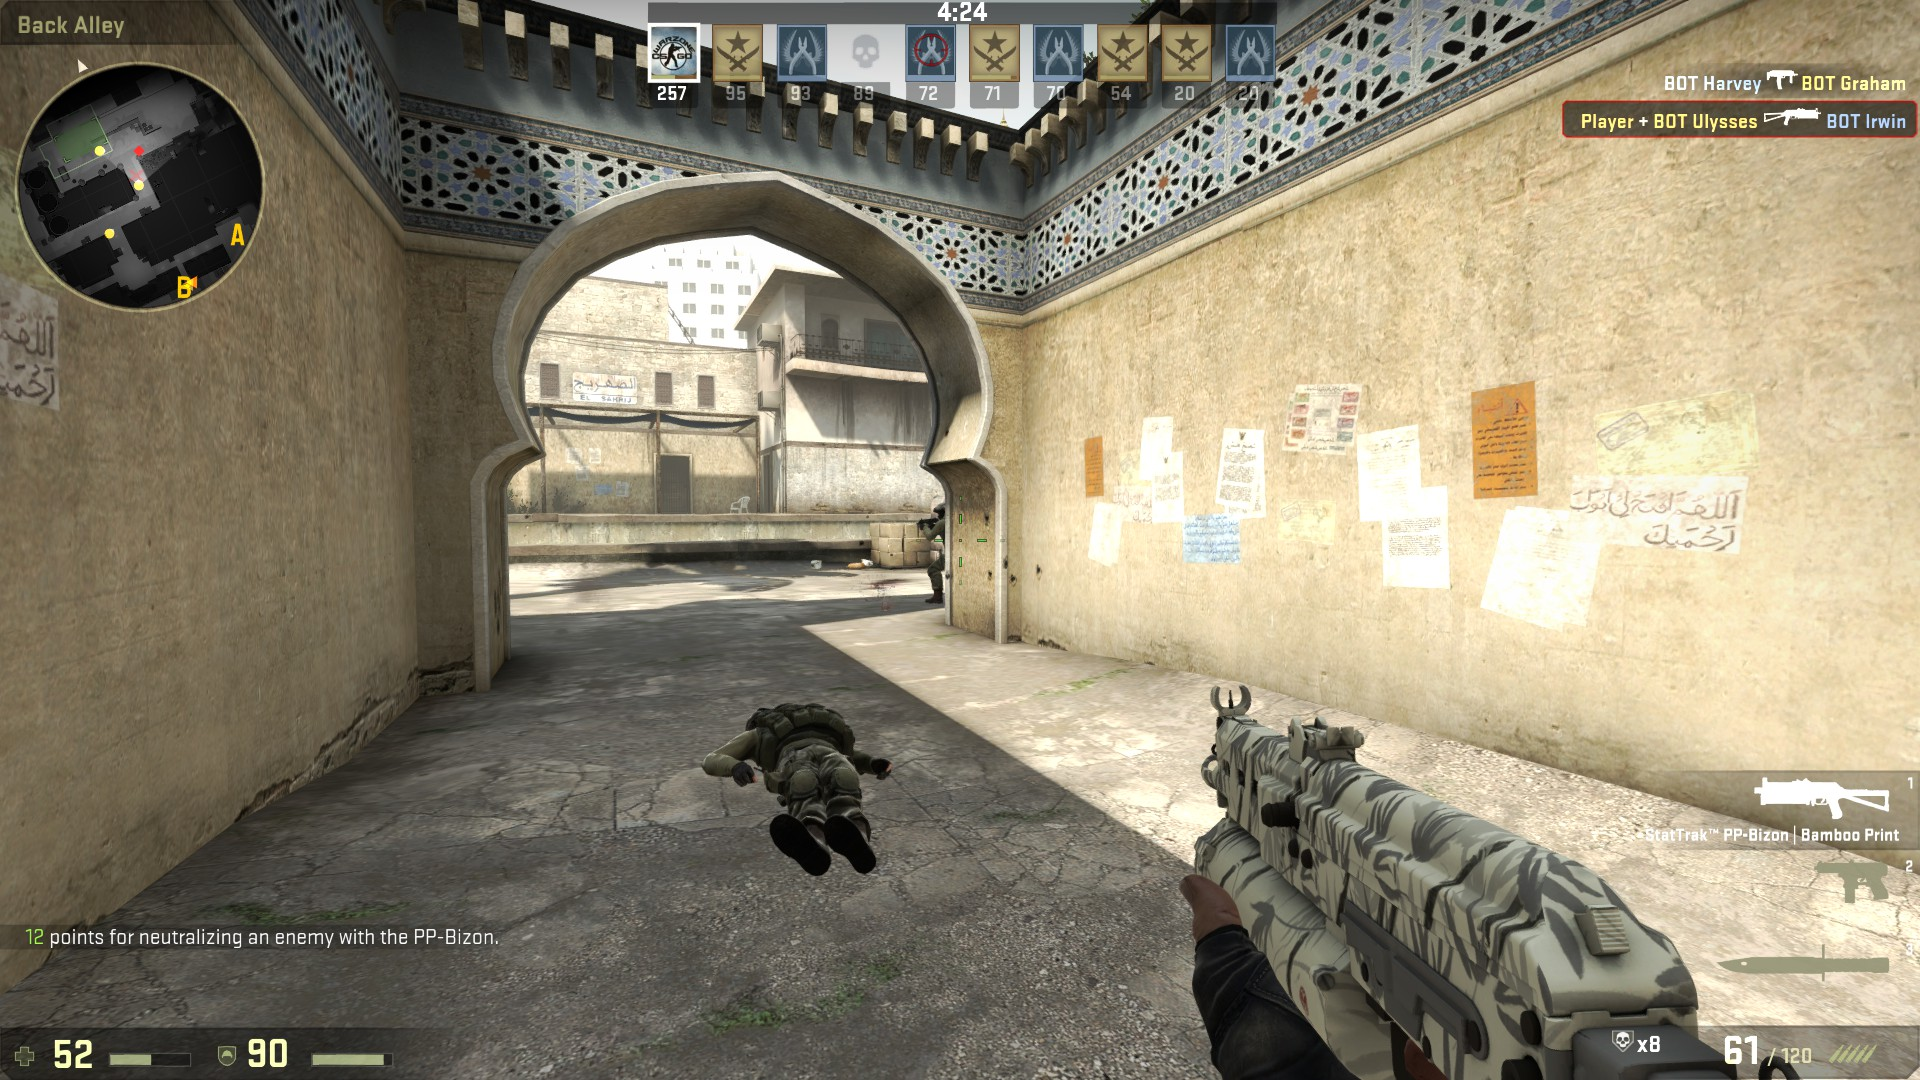c: (926, 501, 948, 607)
ch: (931, 501, 951, 521)
